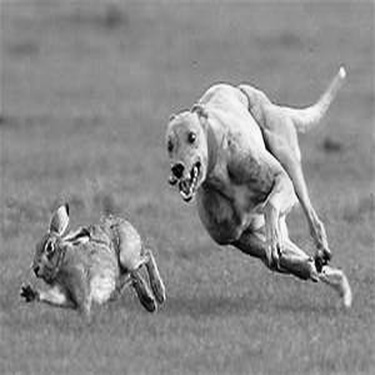dog: (150, 42, 366, 316)
